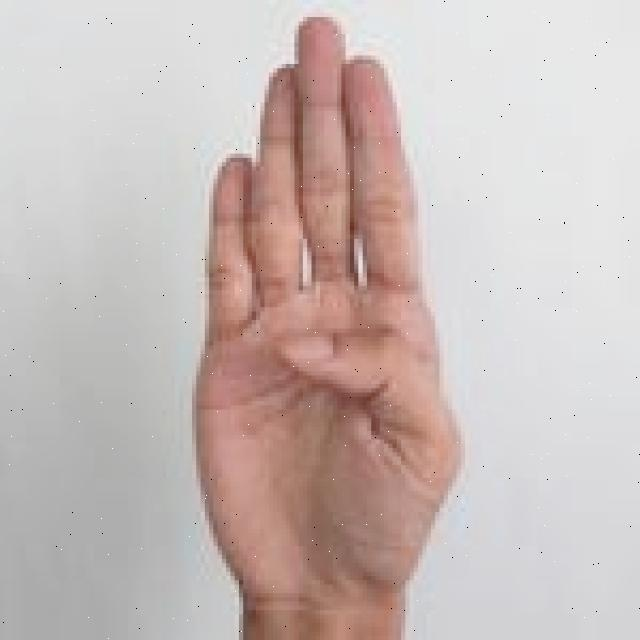B: (191, 14, 466, 640)
